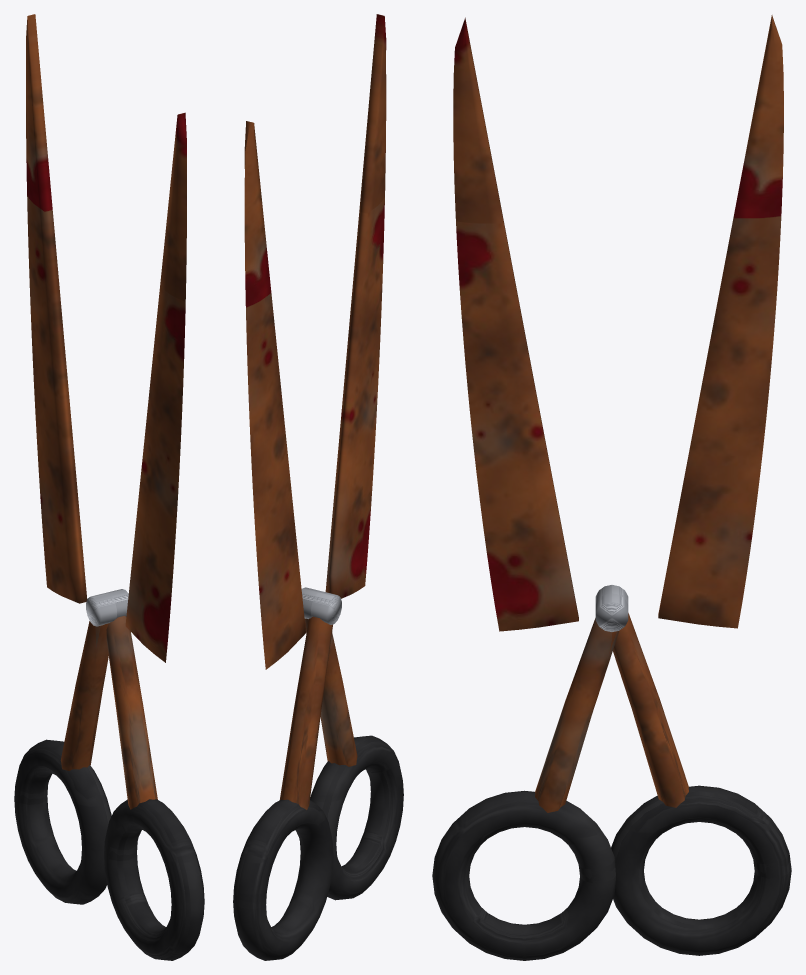
File: 大鋏_shears.glb
3 renders of one model, left to right at view 1: azimuth 30°, elevation 25°; view 2: azimuth 150°, elevation 25°; view 3: azimuth 270°, elevation 25°, orthographic. The views are drawn at different scales.
Visible parts, largest first — view 1: shears; view 2: shears; view 3: shears.
Part boxes in pixels (x1,y1,x2,y2): shears: (14, 14, 204, 960); shears: (233, 14, 403, 960); shears: (432, 15, 791, 960).
Size of the model in its own units: 0.0141 by 0.3089 by 0.107.
4 materials, 4 textured.
